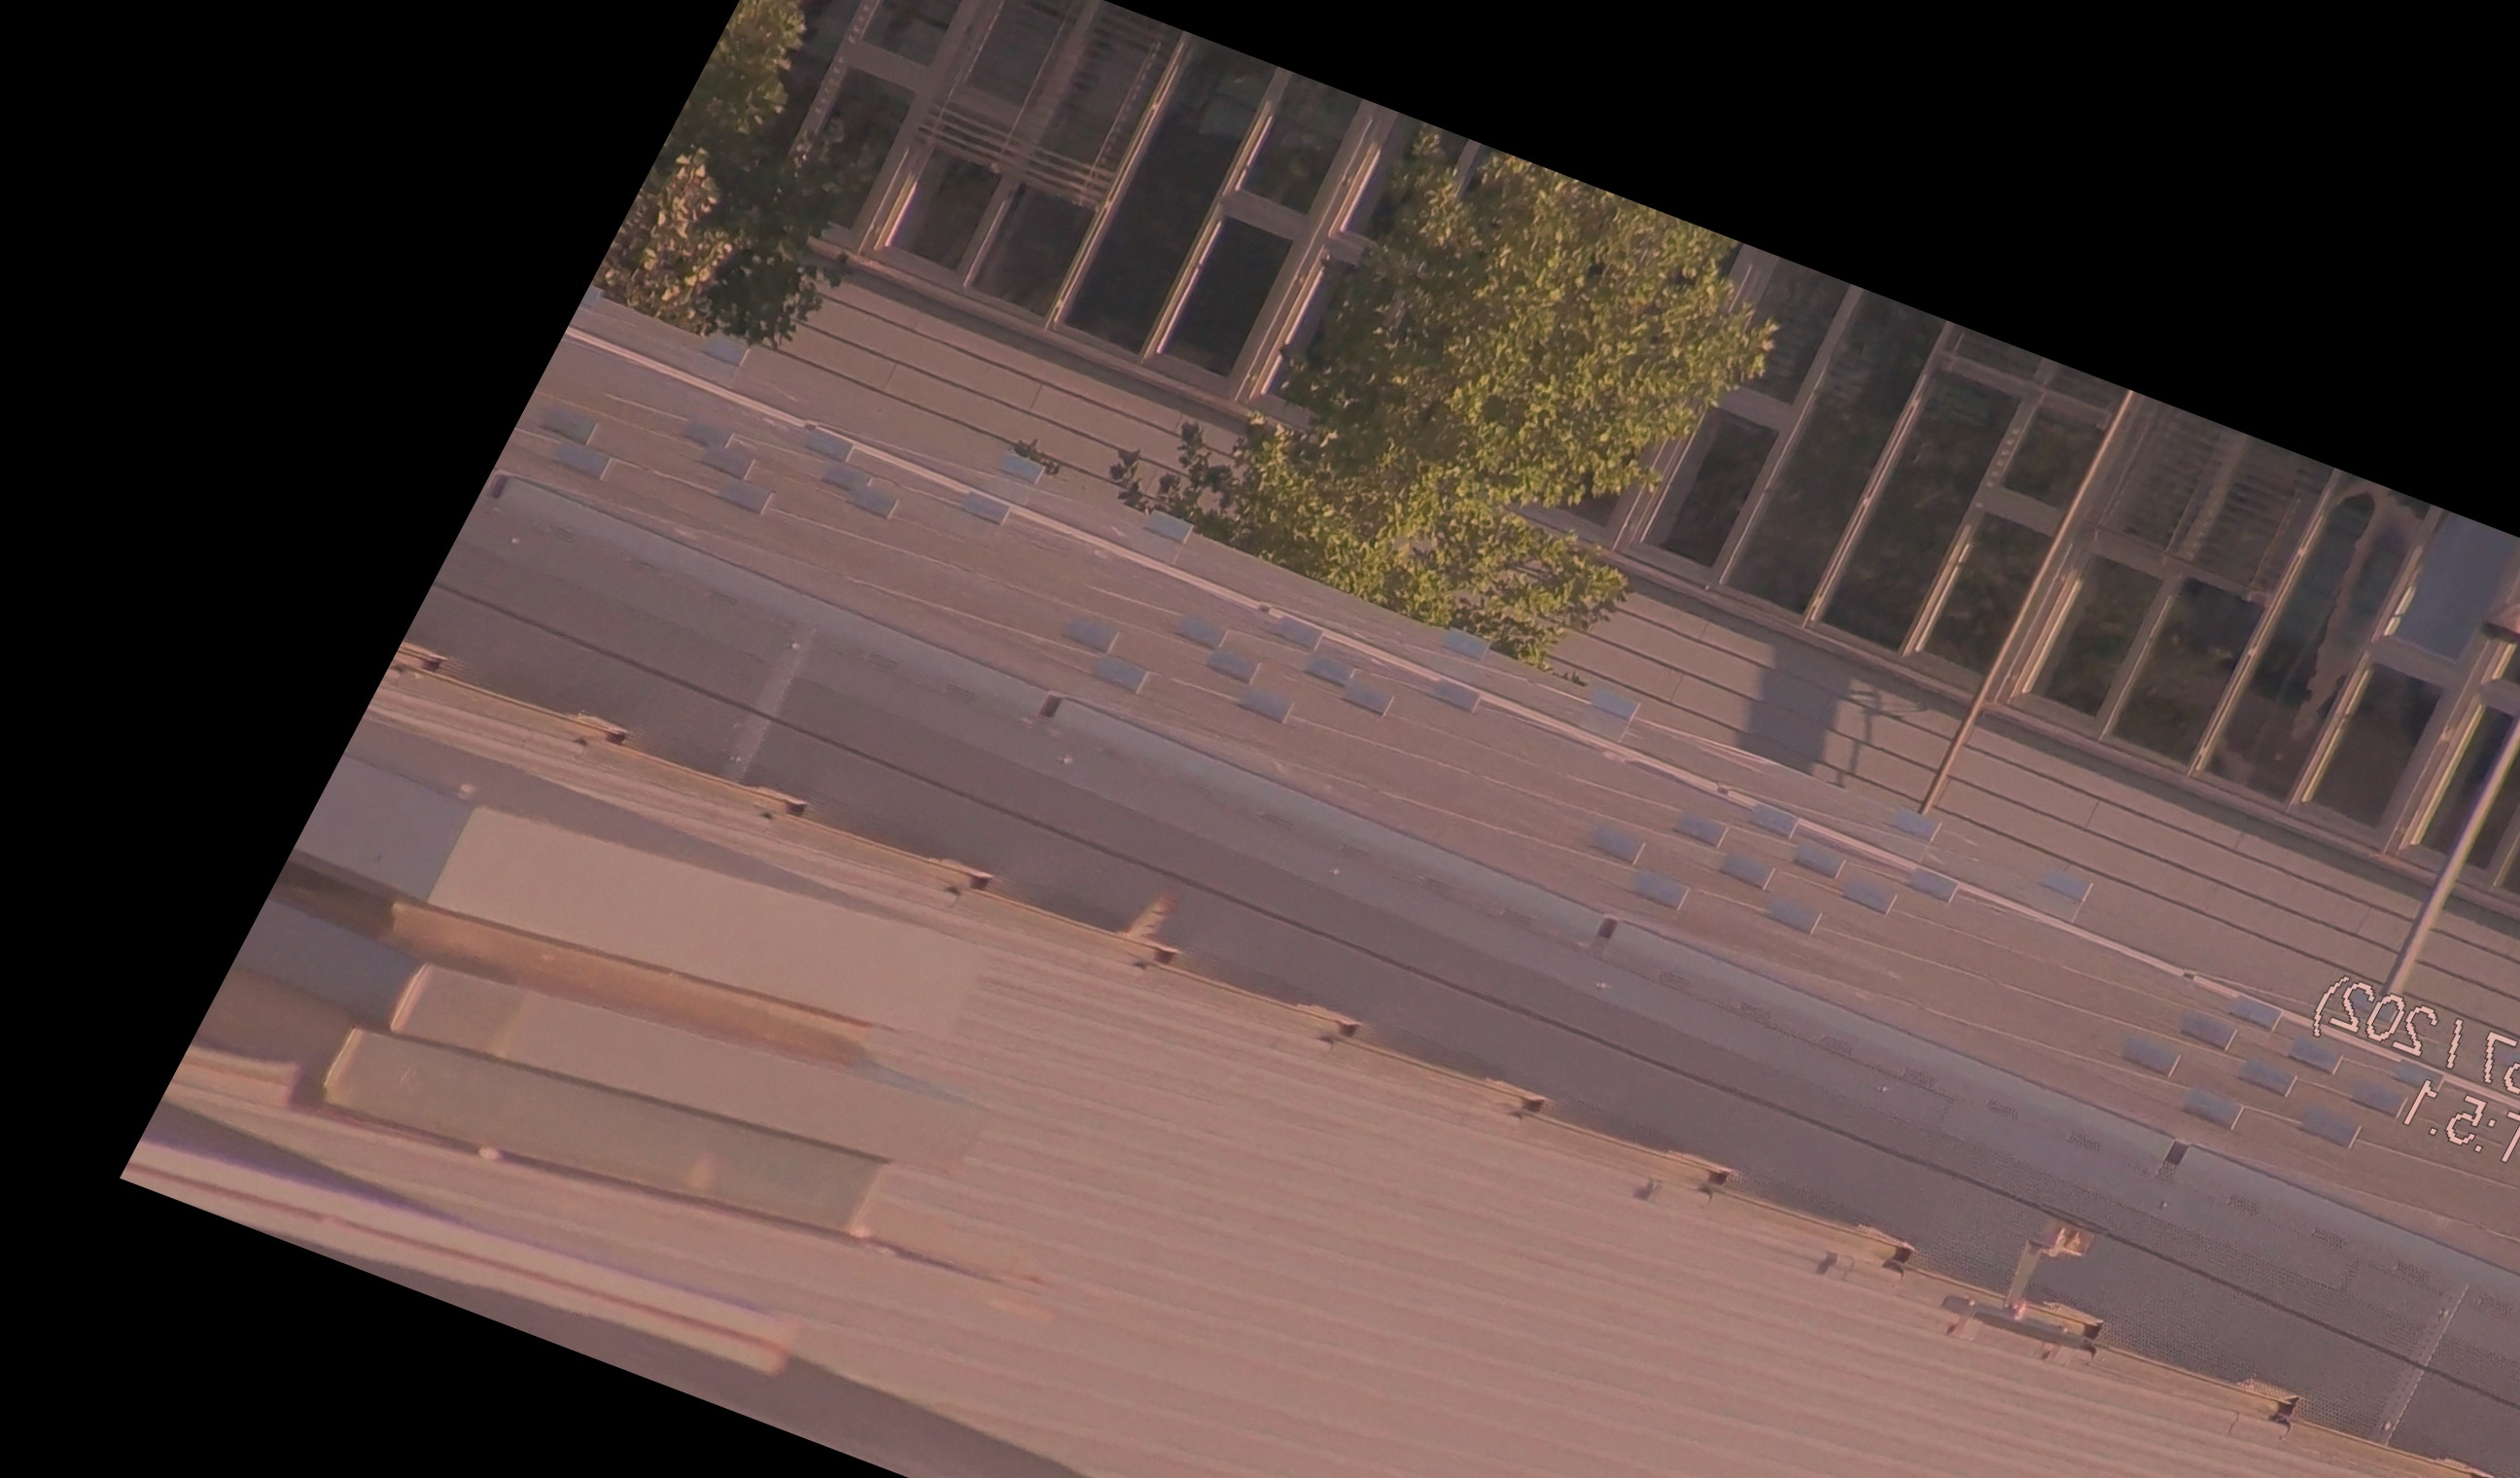Other: (1096, 862, 1206, 980)
